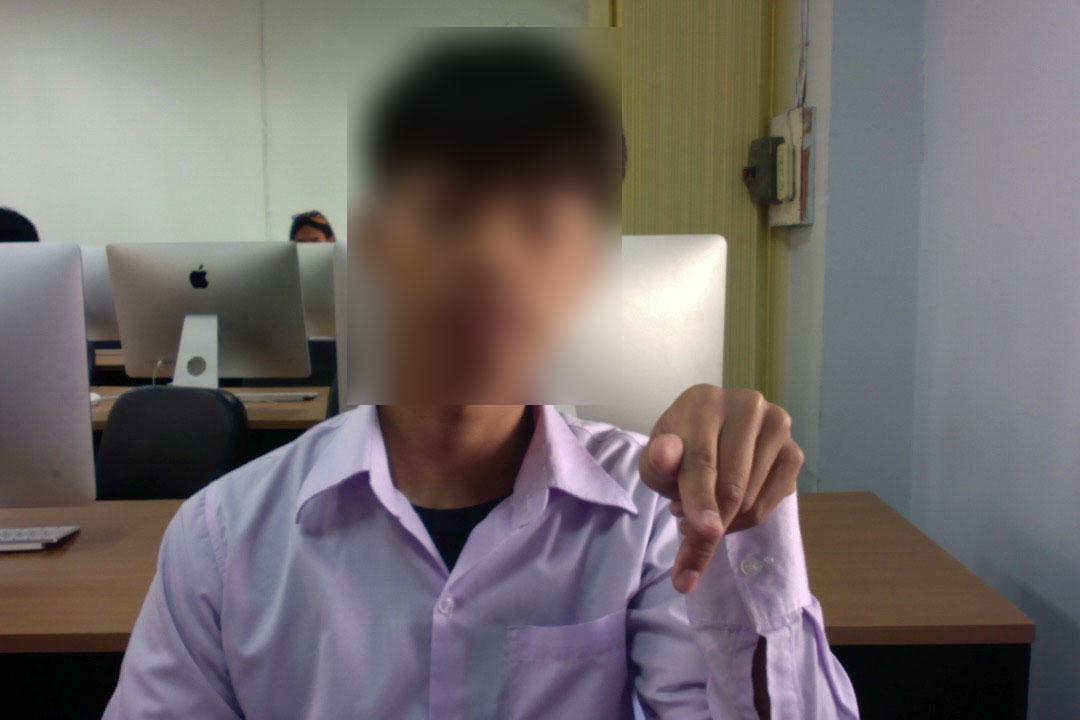por: (635, 371, 810, 600)
